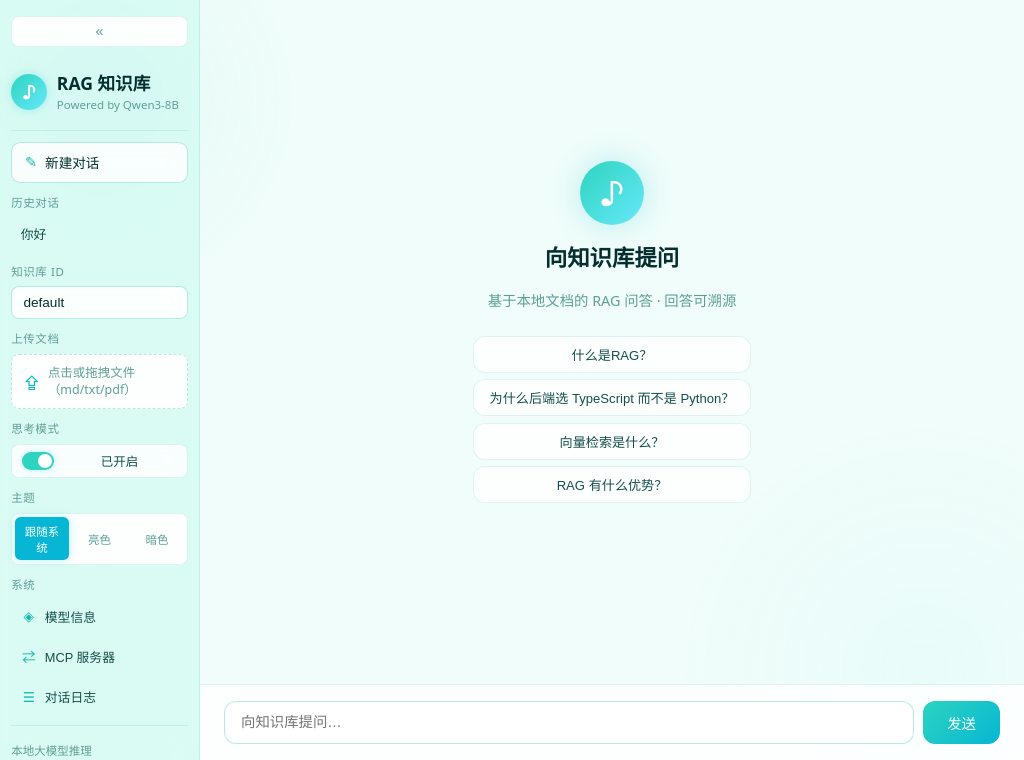
M3 流式问答页 › SSE error 事件展示友好文案且不白屏，可重新输入
This screenshot has width=1024, height=760.
Type "测试错误" into the field with placeholder "向知识库提问…". click: [569, 722]
box: x1=224 y1=701 x2=914 y2=744
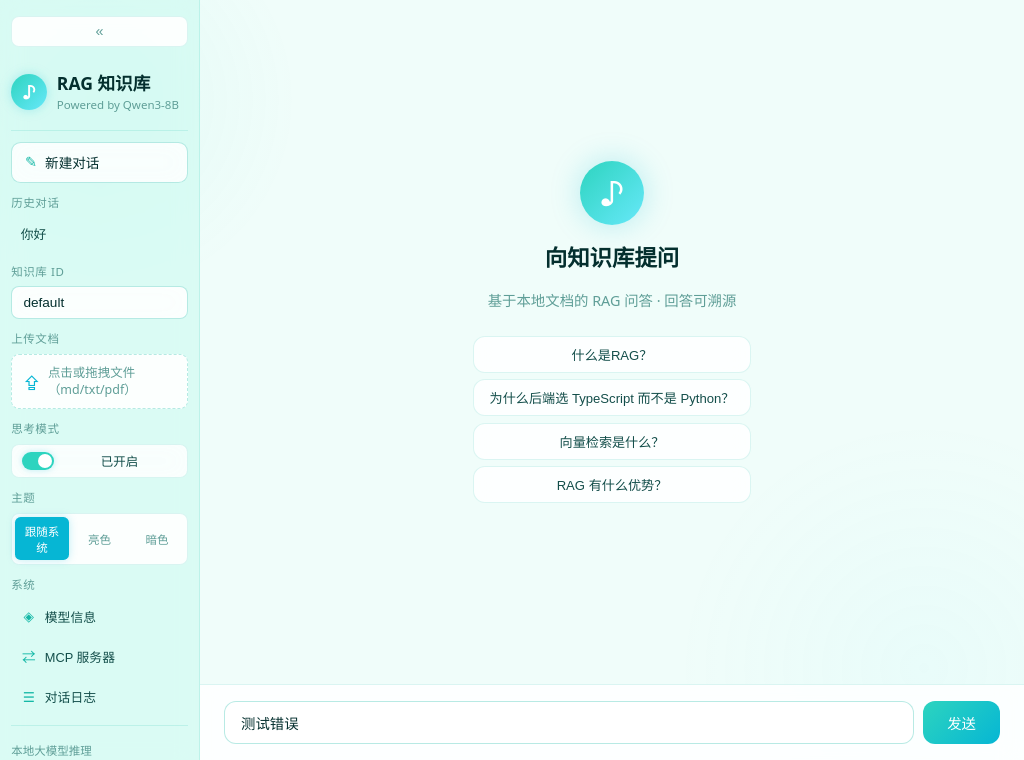
Click the button "发送". click: [962, 722]
box: x1=923 y1=701 x2=1000 y2=744
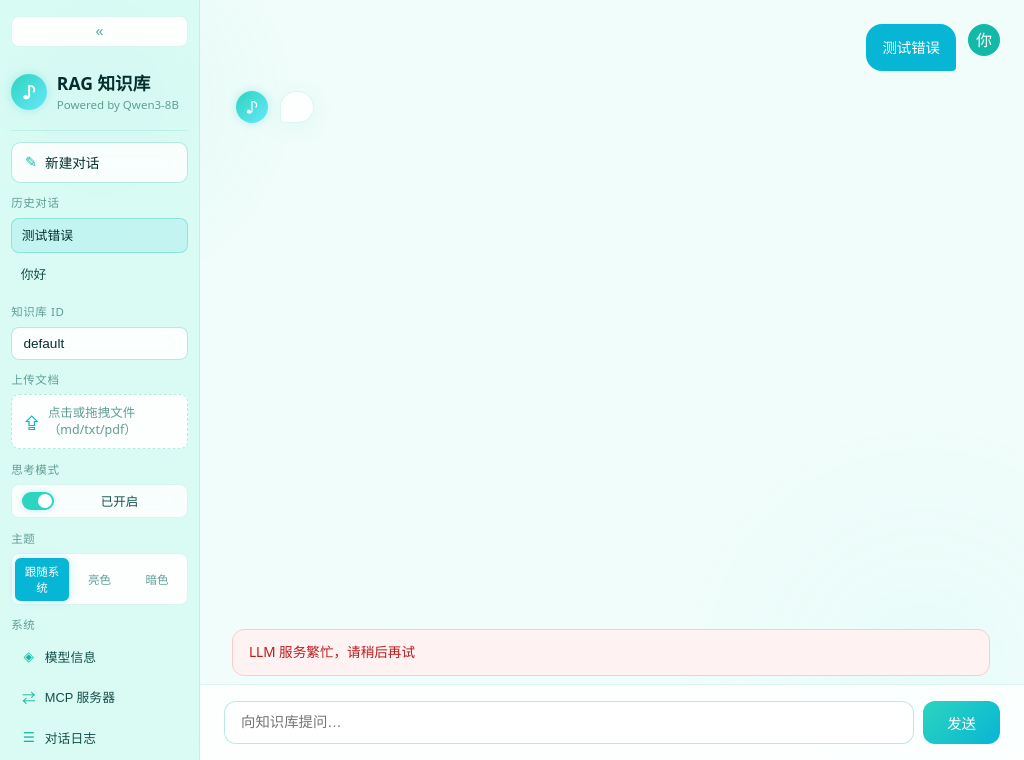
Expected: the heading "RAG 知识库" is shown, x1=57 y1=71 x2=150 y2=95
Expected: the text "LLM 服务繁忙，请稍后再试" is shown, x1=232 y1=629 x2=990 y2=676
